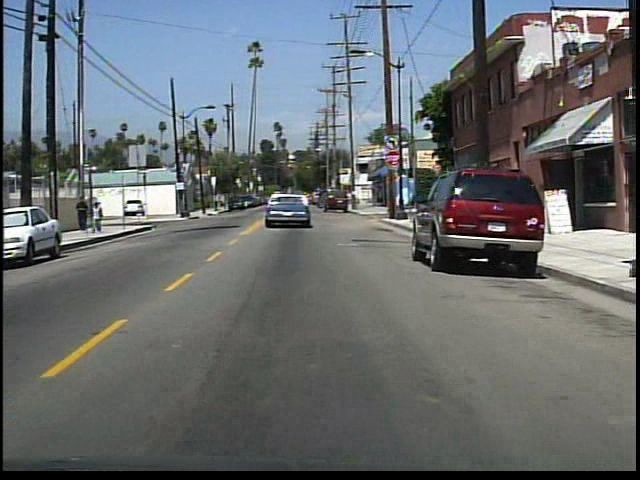person: (76, 193, 93, 234), (91, 200, 106, 234)
